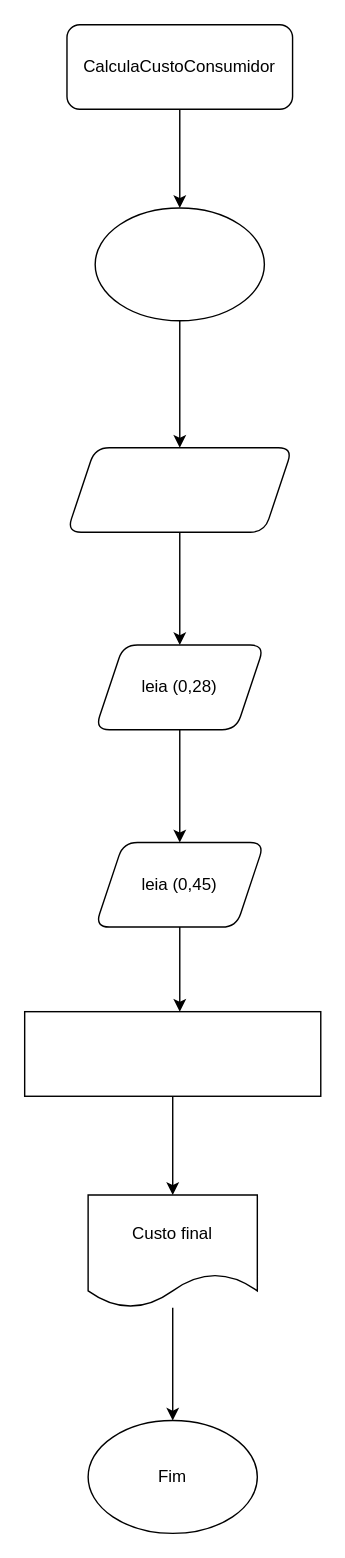
This 345x1558 diagram has some shape labels left out. The box of each missing label's shape, as (x1, y1, x2, y2) in pixels:
Custo final = custodefabrica + (custodefabrica * 0,28 * 0,45): (23, 1010, 321, 1096)
Início: (94, 207, 264, 321)
leia (CustodeFabrica): (66, 446, 293, 532)
